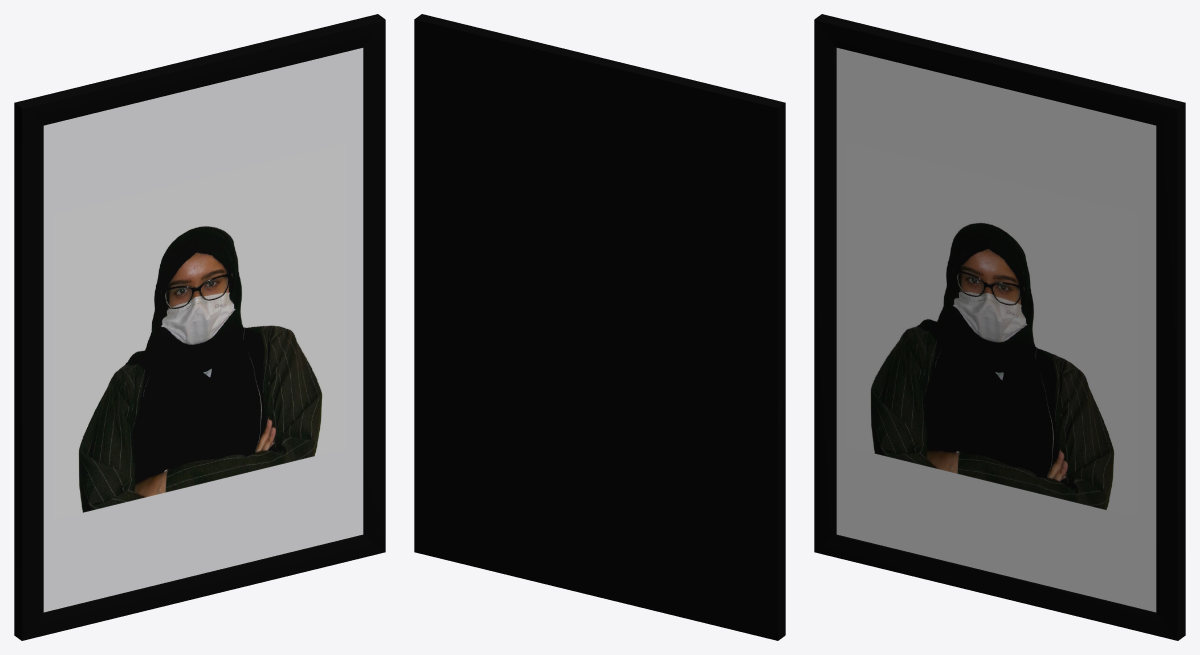
Rendered from HessaSign.fbx.
3 renders of one model, left to right at view 1: azimuth 30°, elevation 25°; view 2: azimuth 150°, elevation 25°; view 3: azimuth 330°, elevation 25°, orthographic.
Parts seen in each view (by area): view 1: Box046, zip_-_2; view 2: Box046; view 3: Box046, zip_-_2.
Part boxes in pixels (x1,y1,x2,y2): Box046: (14, 14, 385, 640); zip_-_2: (54, 143, 345, 519); Box046: (414, 14, 785, 640); Box046: (814, 14, 1185, 640); zip_-_2: (846, 141, 1137, 517).
Bounding box in the file's own units: 692 × 969 × 25.55.
5 materials, 1 textured.
